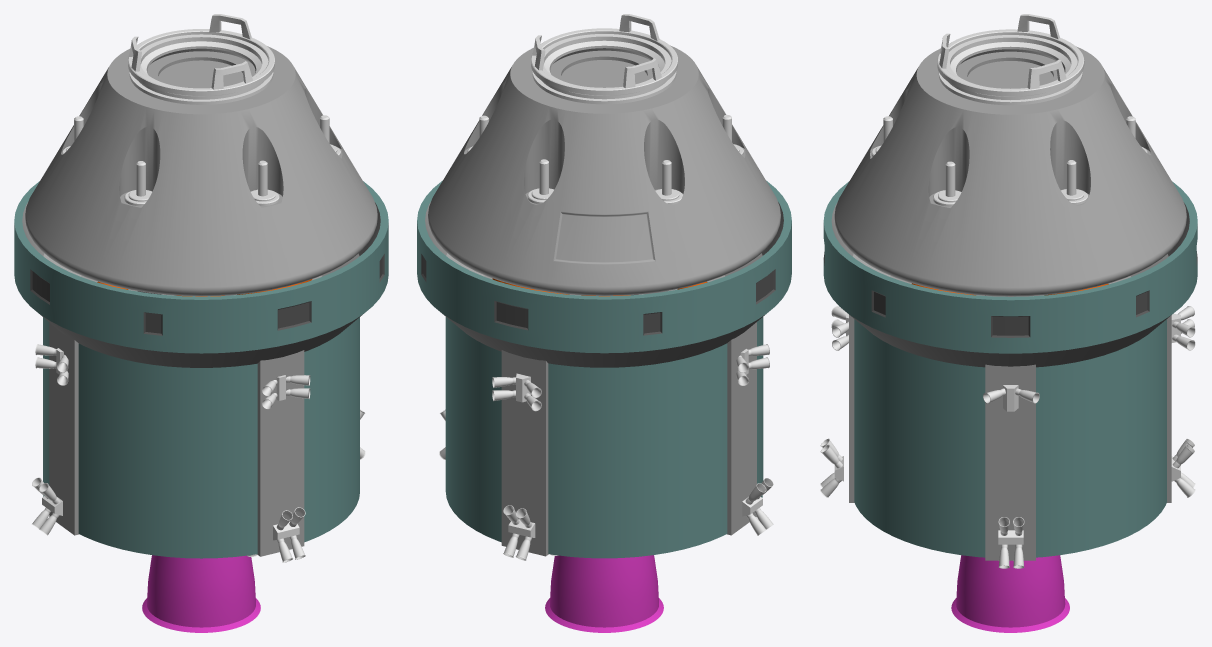
Rendered from CrewAndServiceModule.fbx.
3 views of the same model, side by side, from view 1: azimuth 30°, elevation 25°; view 2: azimuth 150°, elevation 25°; view 3: azimuth 270°, elevation 25° (orthographic).
Visible parts, largest first — view 1: group21_group20_group18_polySurface6, group34_pCylinder26, pCube12, polySurface18; view 2: group21_group20_group18_polySurface6, group34_pCylinder26, pCube12, polySurface18; view 3: group21_group20_group18_polySurface6, group34_pCylinder26, pCube12, polySurface18.
Part boxes in pixels (x1=…): group21_group20_group18_polySurface6: x1=14, y1=181, x2=388, y2=632; group34_pCylinder26: x1=25, y1=46, x2=377, y2=296; pCube12: x1=128, y1=14, x2=274, y2=99; polySurface18: x1=146, y1=46, x2=256, y2=88; group21_group20_group18_polySurface6: x1=417, y1=180, x2=791, y2=632; group34_pCylinder26: x1=428, y1=45, x2=780, y2=295; pCube12: x1=531, y1=14, x2=677, y2=99; polySurface18: x1=549, y1=45, x2=653, y2=87; group21_group20_group18_polySurface6: x1=820, y1=181, x2=1197, y2=632; group34_pCylinder26: x1=834, y1=46, x2=1186, y2=296; pCube12: x1=937, y1=14, x2=1084, y2=100; polySurface18: x1=956, y1=46, x2=1065, y2=88.
Size of the model in its own units: 2.38 by 3.94 by 2.38.
